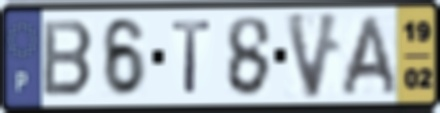6: (99, 15, 150, 100)
8: (223, 14, 274, 98)
A: (337, 13, 401, 98)
B: (40, 18, 97, 100)
T: (169, 18, 214, 96)
V: (282, 9, 344, 103)
